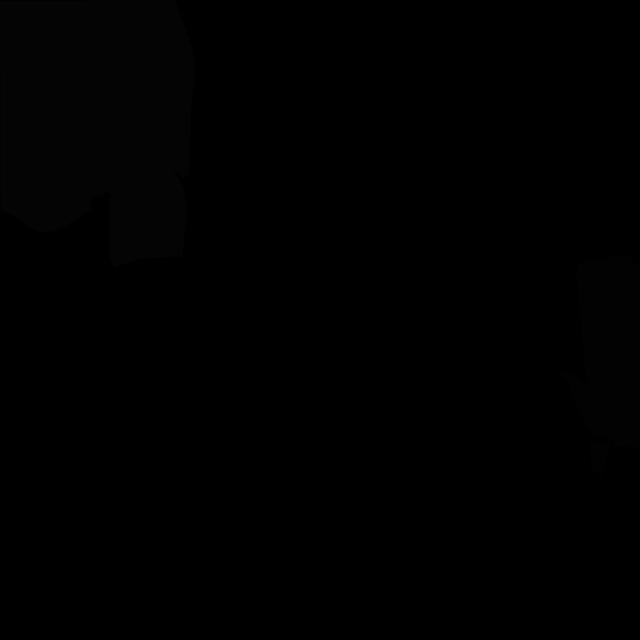cardboard: (576, 255, 640, 416), (560, 369, 640, 477)
soft_plastic: (0, 0, 194, 231), (109, 145, 187, 268)
